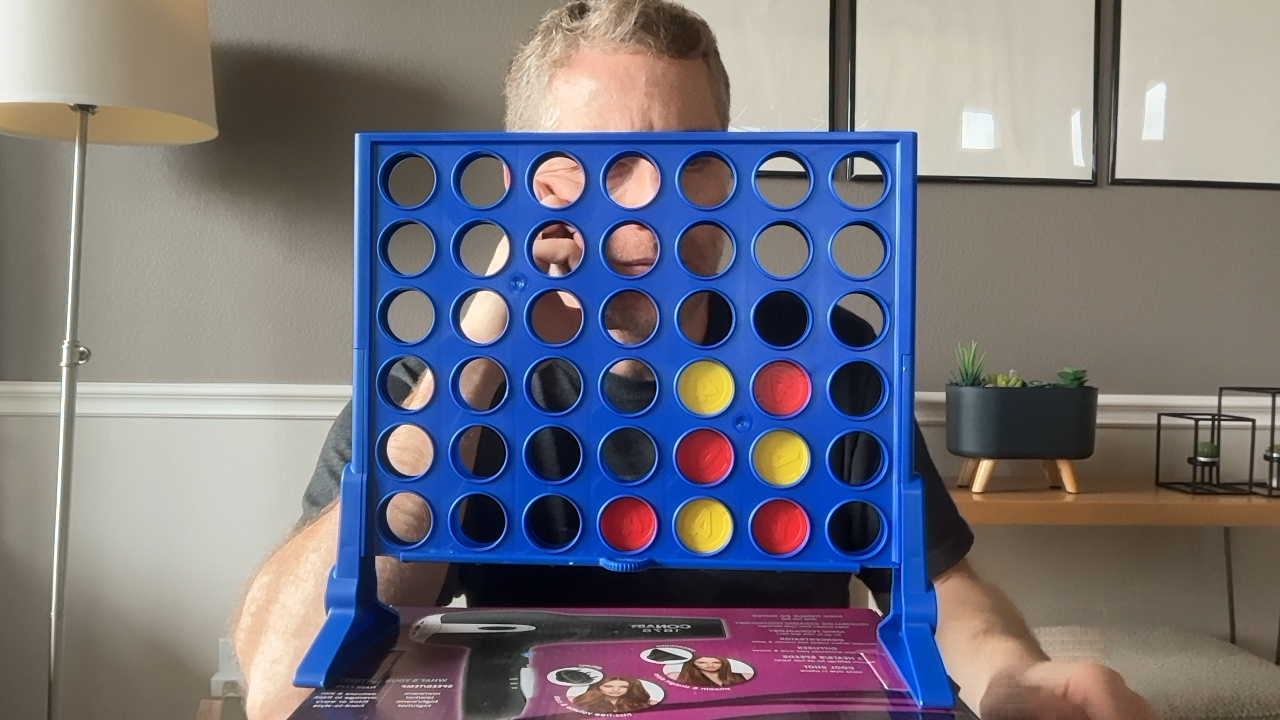red piece: (753, 360, 811, 416), (751, 499, 809, 554), (676, 428, 733, 483), (600, 496, 656, 551)
yellow piece: (677, 359, 734, 416), (752, 430, 809, 485), (676, 498, 732, 553)
